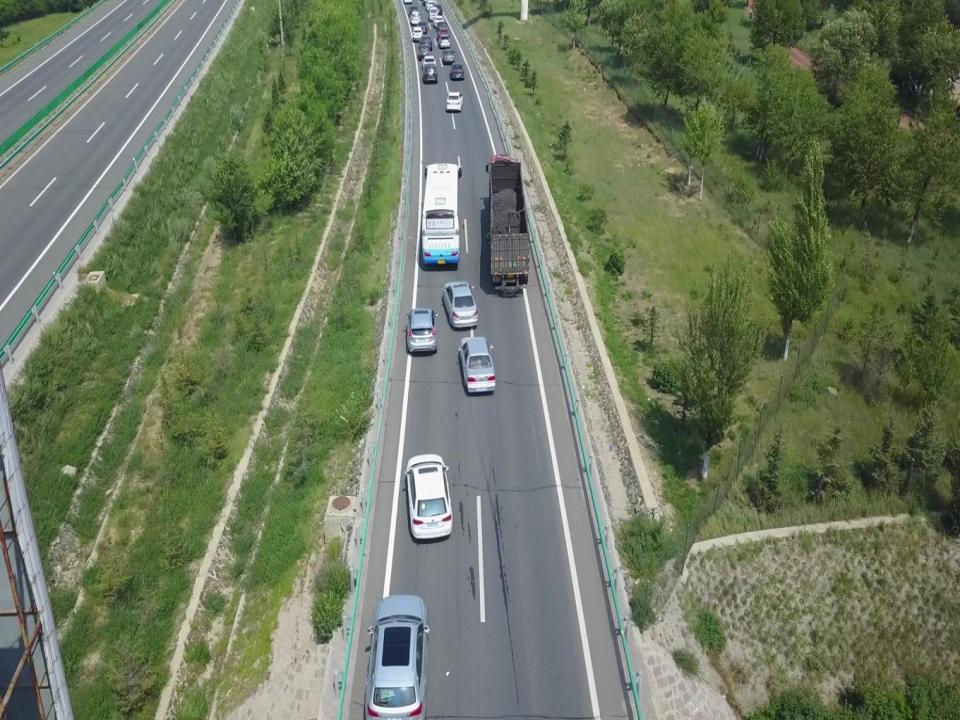bus: (420, 162, 462, 264)
car: (365, 593, 430, 720), (404, 453, 452, 539), (459, 336, 495, 392), (442, 280, 478, 328), (404, 308, 438, 352), (447, 90, 463, 111), (422, 63, 438, 83), (421, 54, 437, 70), (450, 62, 464, 78), (420, 34, 433, 51), (442, 48, 455, 64), (417, 44, 430, 60), (412, 26, 423, 42), (439, 34, 451, 48), (436, 28, 450, 40), (410, 12, 421, 26), (417, 21, 429, 33), (436, 21, 448, 33), (408, 5, 419, 18), (433, 15, 444, 28), (425, 0, 435, 12), (433, 4, 442, 15)
truck: (485, 152, 529, 298)
van: (428, 6, 438, 20)
